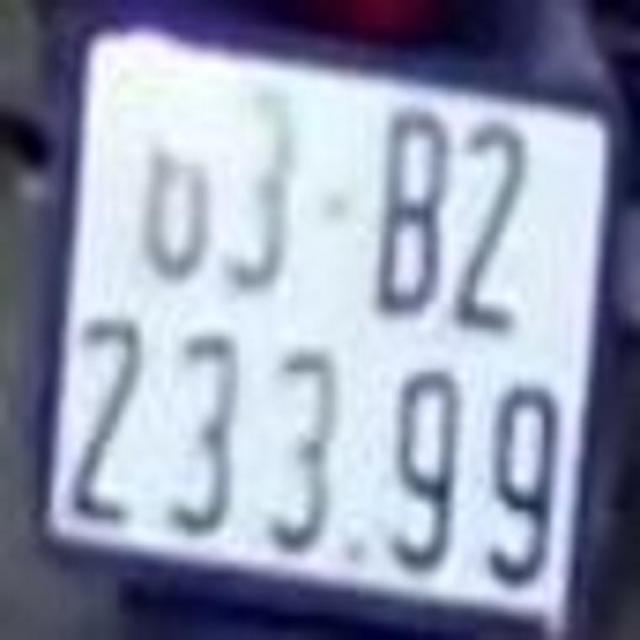2: (72, 315, 149, 527), (455, 119, 526, 331)
3: (176, 321, 241, 538), (221, 105, 294, 298), (267, 343, 331, 555)
9: (390, 362, 460, 577), (484, 370, 551, 584)
B: (379, 105, 449, 320)
